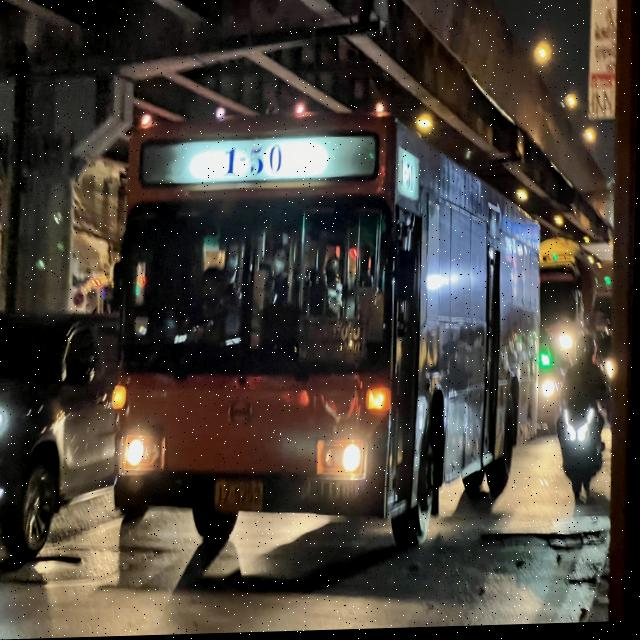BMTA-bus: (108, 103, 545, 590)
Bus-Line-Number: (220, 140, 283, 182)
Destination-Sign-Normal: (300, 315, 368, 369)
